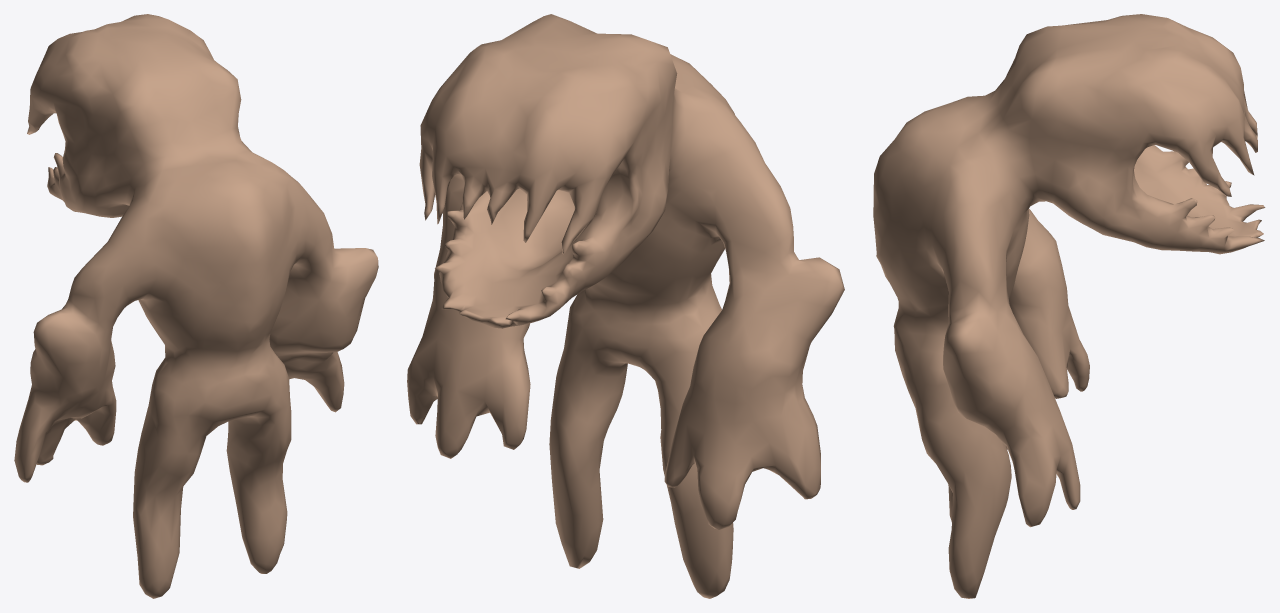
The model's file is Minion.fbx.
3 renders of one model, left to right at view 1: azimuth 30°, elevation 25°; view 2: azimuth 150°, elevation 25°; view 3: azimuth 270°, elevation 25°, orthographic. The views are drawn at different scales.
Parts seen in each view (by area): view 1: Minion_LP; view 2: Minion_LP; view 3: Minion_LP.
Boxes of the visible parts, left/top/right/bottom form: Minion_LP: left=14, top=14, right=378, bottom=598; Minion_LP: left=407, top=14, right=844, bottom=598; Minion_LP: left=873, top=14, right=1265, bottom=598.
Bounding box in the file's own units: 62.22 × 87.93 × 58.28.
